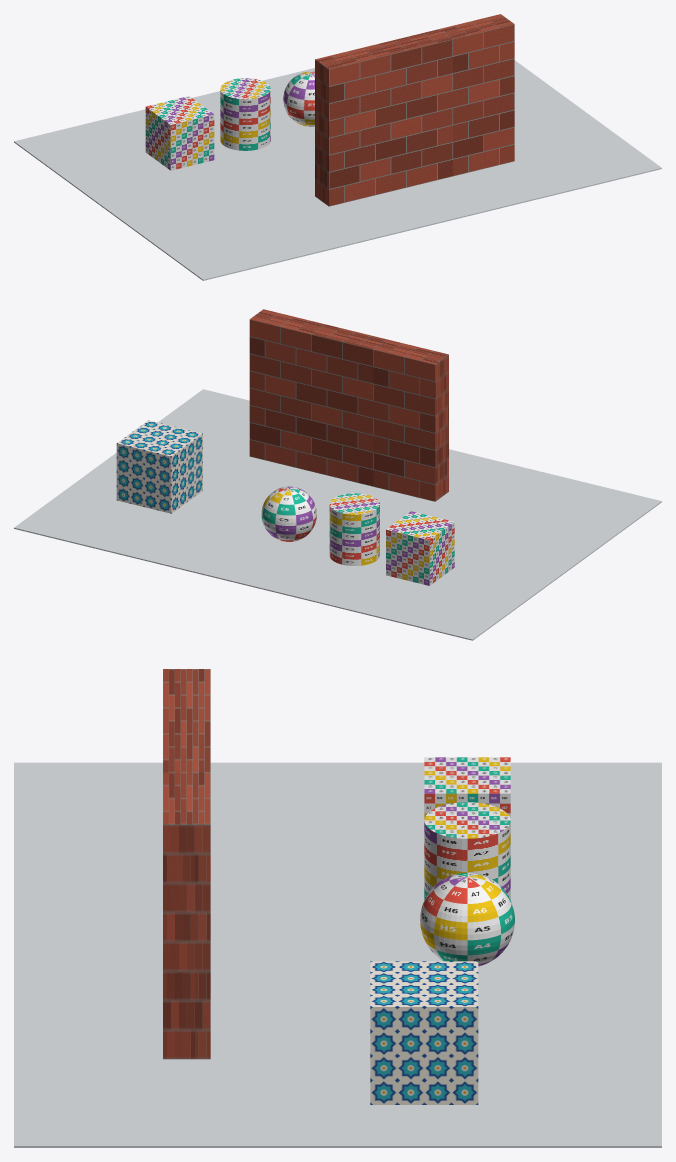
File: ish12.glb
The picture shows the model from 3 angles, top to bottom: view 1: azimuth 30°, elevation 25°; view 2: azimuth 150°, elevation 25°; view 3: azimuth 270°, elevation 25°; orthographic projection. The views are drawn at different scales.
Visible parts, largest first — view 1: Pol, Devor_PBR, Box_UVW_Box, Cylinder_UVW_Cyl, Sphere_UVW_Sph; view 2: Pol, Devor_PBR, Quti_koshin, Box_UVW_Box, Cylinder_UVW_Cyl, Sphere_UVW_Sph; view 3: Pol, Devor_PBR, Quti_koshin, Sphere_UVW_Sph, Cylinder_UVW_Cyl, Box_UVW_Box.
Part boxes in pixels (left/top/right/bottom): Pol: left=14, top=60, right=661, bottom=280; Devor_PBR: left=315, top=14, right=514, bottom=206; Box_UVW_Box: left=145, top=96, right=214, bottom=170; Cylinder_UVW_Cyl: left=220, top=78, right=270, bottom=150; Sphere_UVW_Sph: left=283, top=71, right=314, bottom=126; Pol: left=14, top=389, right=661, bottom=640; Devor_PBR: left=249, top=309, right=448, bottom=501; Quti_koshin: left=116, top=420, right=202, bottom=513; Box_UVW_Box: left=386, top=511, right=454, bottom=585; Cylinder_UVW_Cyl: left=329, top=493, right=379, bottom=565; Sphere_UVW_Sph: left=261, top=486, right=316, bottom=541; Pol: left=14, top=762, right=661, bottom=1147; Devor_PBR: left=163, top=669, right=210, bottom=1059; Quti_koshin: left=370, top=961, right=478, bottom=1104; Sphere_UVW_Sph: left=420, top=872, right=514, bottom=966; Cylinder_UVW_Cyl: left=424, top=802, right=510, bottom=899; Box_UVW_Box: left=424, top=757, right=510, bottom=819.
Size of the model in its own units: 4.2 by 1.21 by 3.
4 materials, 3 textured.
